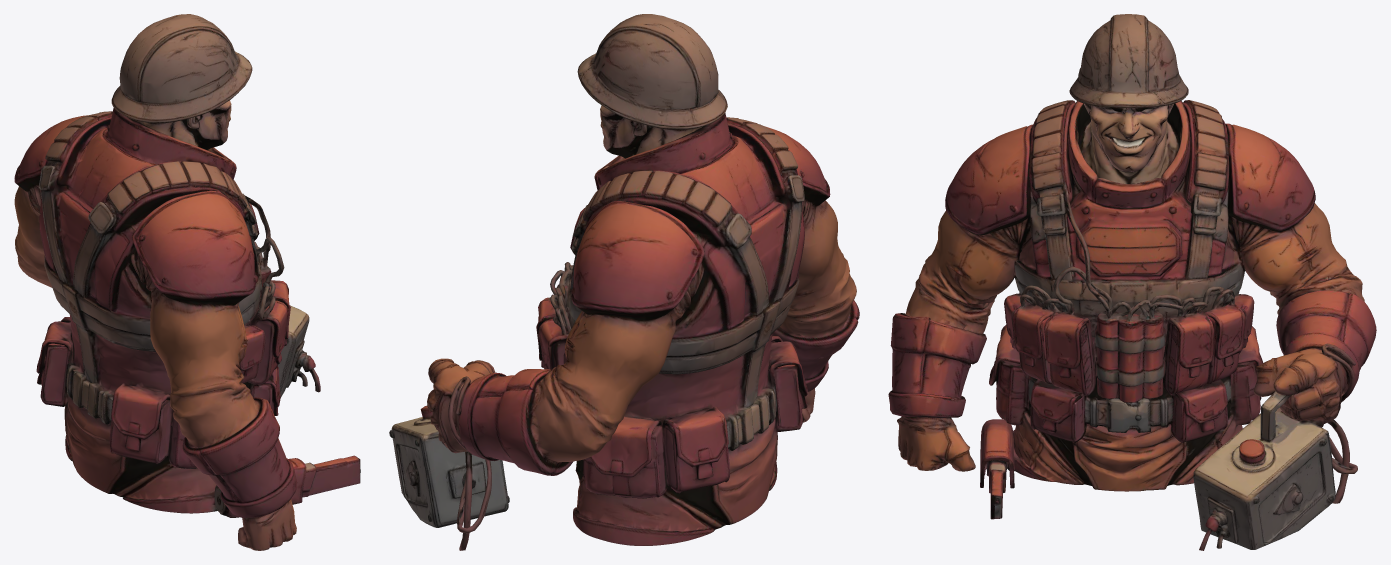
The model's file is wrecker3d.glb.
The picture shows the model from 3 angles, left to right: view 1: azimuth 30°, elevation 25°; view 2: azimuth 150°, elevation 25°; view 3: azimuth 270°, elevation 25°; orthographic projection. The views are drawn at different scales.
Visible parts, largest first — view 1: tripo_node_72a1796c-bcfc-4edf-a783-c771f4c92e1e; view 2: tripo_node_72a1796c-bcfc-4edf-a783-c771f4c92e1e; view 3: tripo_node_72a1796c-bcfc-4edf-a783-c771f4c92e1e.
Part boxes in pixels (x1,y1,x2,y2): tripo_node_72a1796c-bcfc-4edf-a783-c771f4c92e1e: (14, 14, 360, 550); tripo_node_72a1796c-bcfc-4edf-a783-c771f4c92e1e: (389, 14, 859, 550); tripo_node_72a1796c-bcfc-4edf-a783-c771f4c92e1e: (888, 14, 1376, 550).
Bounding box in the file's own units: 0.7141 × 1 × 0.9971.
Materials: 1 (1 with a texture image).
